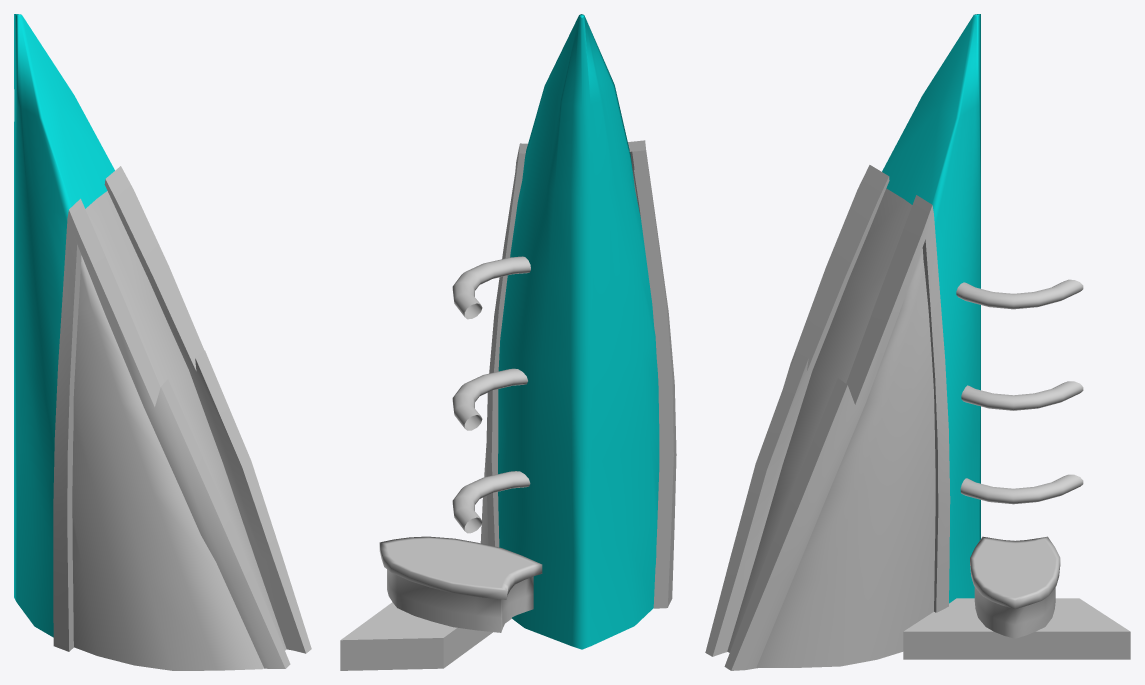
File: Energy_Sword_Building.fbx
3 renders of one model, left to right at view 1: azimuth 30°, elevation 25°; view 2: azimuth 150°, elevation 25°; view 3: azimuth 270°, elevation 25°, orthographic. The views are drawn at different scales.
Visible parts, largest first — view 1: polySurface7, polySurface12, polySurface9; view 2: polySurface7, polySurface6, polySurface12, polySurface2, polySurface9, polySurface10, polySurface11, polySurface1; view 3: polySurface7, polySurface9, polySurface12, polySurface2, polySurface6, polySurface10, polySurface11, polySurface1.
Part boxes in pixels (box(x1,y1,x2,y2)): polySurface7: box(14, 14, 286, 670); polySurface12: box(53, 198, 290, 668); polySurface9: box(104, 166, 311, 653); polySurface7: box(480, 14, 659, 649); polySurface6: box(379, 536, 542, 632); polySurface12: box(628, 140, 676, 608); polySurface2: box(340, 602, 511, 670); polySurface9: box(486, 143, 527, 547); polySurface10: box(452, 256, 530, 319); polySurface11: box(452, 471, 530, 533); polySurface1: box(452, 368, 527, 430); polySurface7: box(727, 14, 980, 668); polySurface9: box(724, 195, 950, 670); polySurface12: box(705, 165, 889, 656); polySurface2: box(903, 598, 1130, 659); polySurface6: box(970, 536, 1060, 638); polySurface10: box(956, 279, 1083, 309); polySurface11: box(960, 474, 1083, 504); polySurface1: box(961, 381, 1083, 410).
Size of the model in its own units: 8332 by 24034 by 16096.
